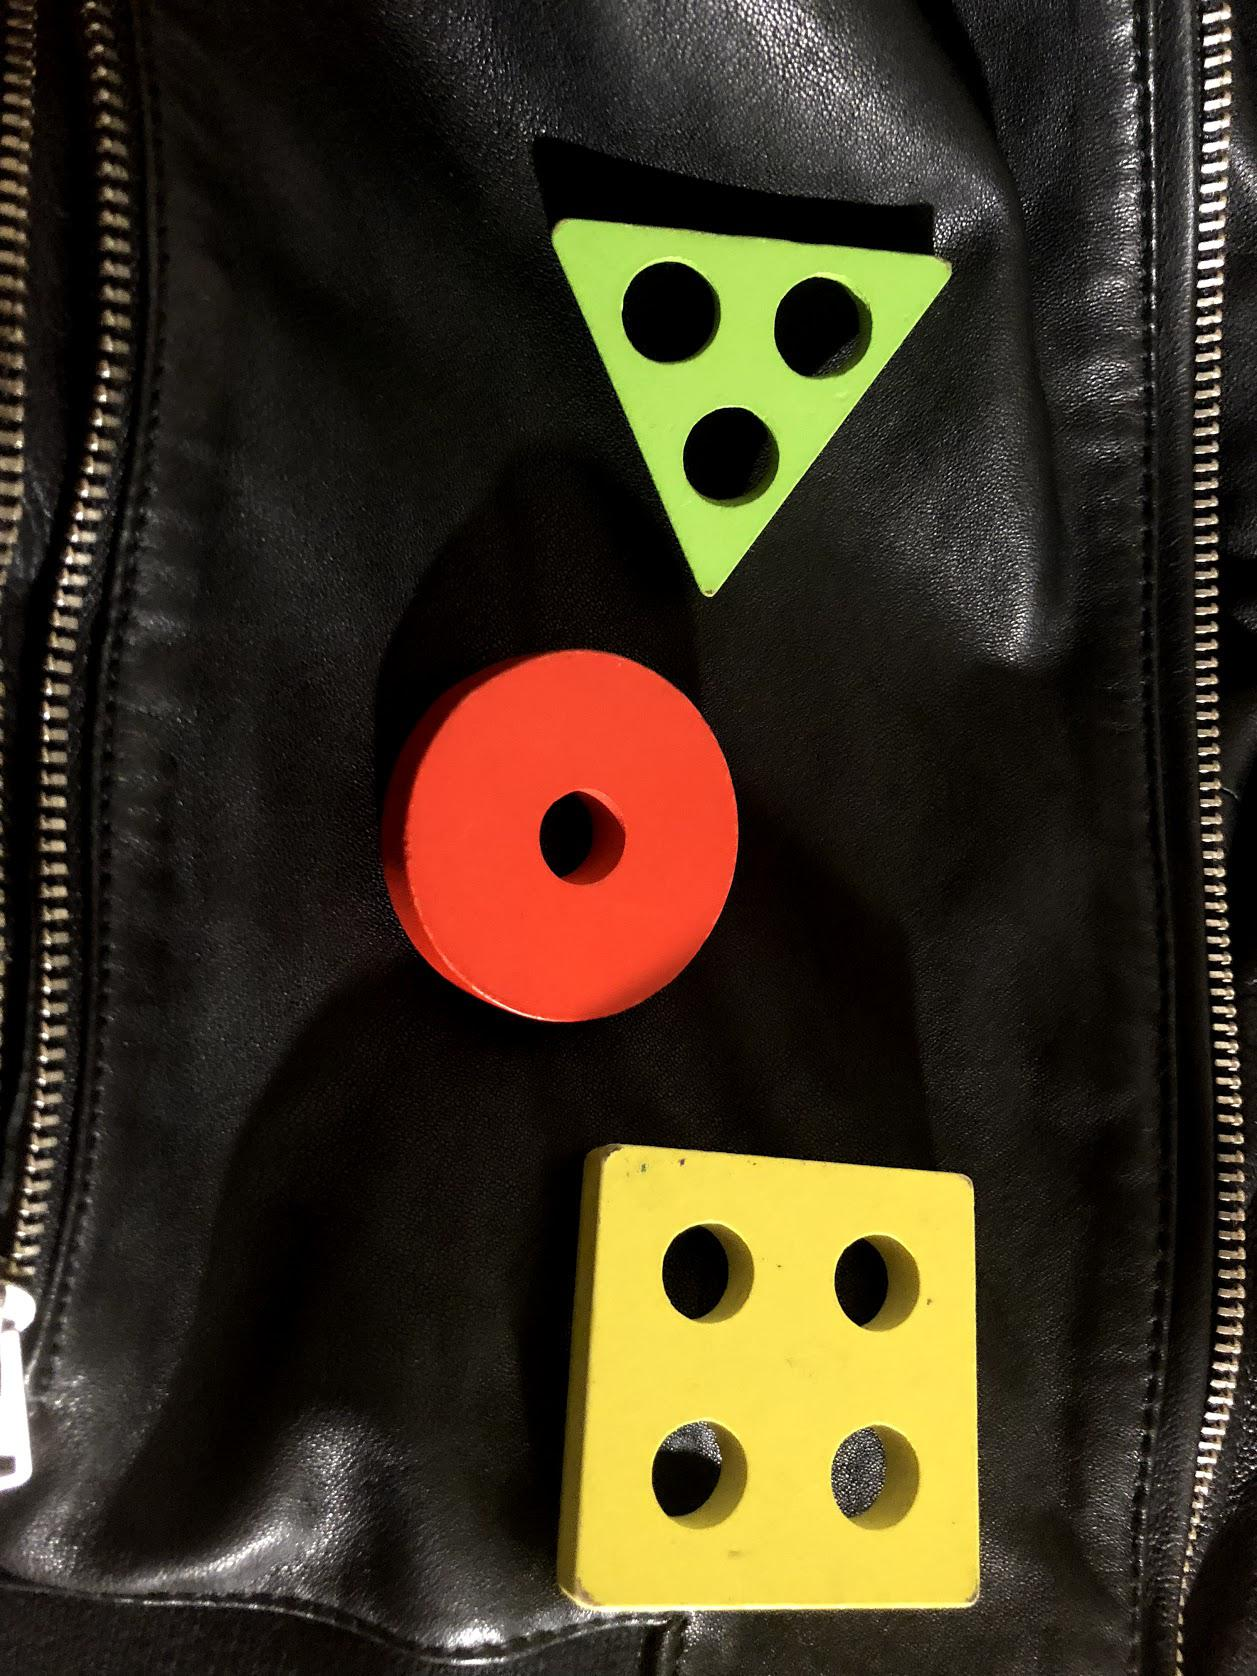Circle: (390, 645, 747, 1035)
Square: (573, 1147, 988, 1615)
Triangle: (559, 216, 949, 593)
